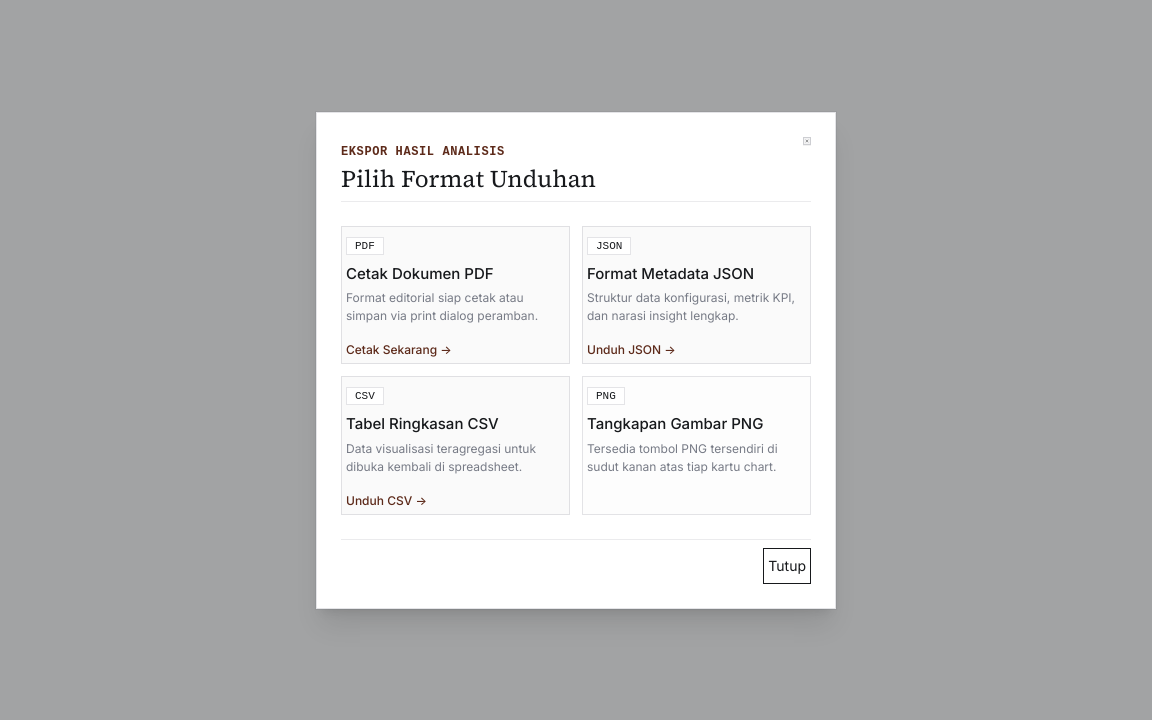
Scenario: Modul 9: Insight Generation, Share & Export › Insight & Export UI Components › renders ExportModal and handles download actions
The image size is (1152, 720).
Expected: the heading "Pilih Format Unduhan" is shown, [341,160,596,196]
Click the text "Unduh JSON →": (631, 350) [587,341,676,359]
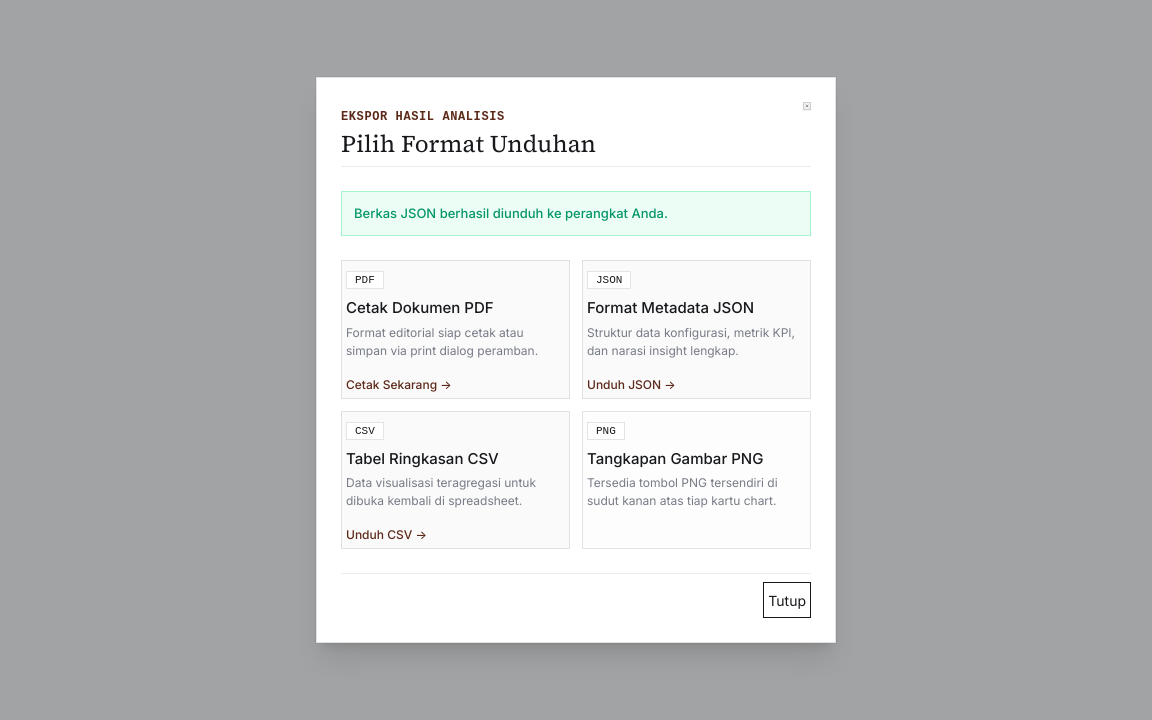
Expected: the text "Berkas JSON berhasil diunduh ke perangkat Anda." is shown, [354,204,668,223]
